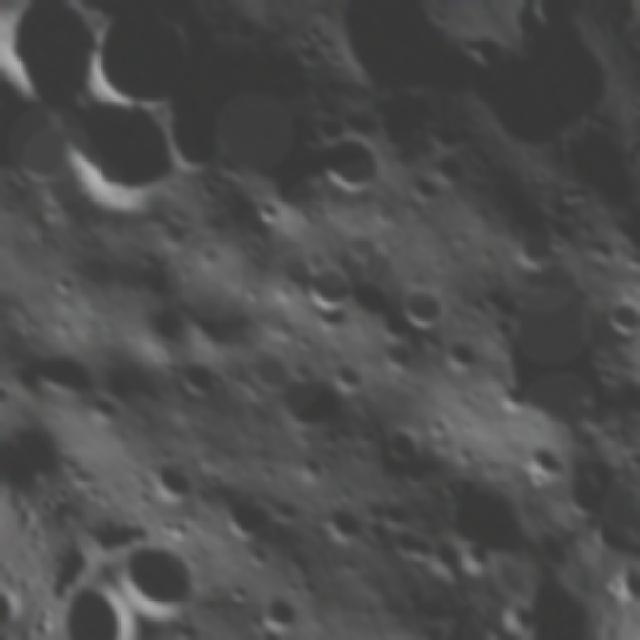crater: (45, 88, 187, 228), (232, 328, 345, 446), (104, 519, 205, 624), (302, 118, 392, 208), (21, 332, 96, 410), (496, 205, 570, 278), (332, 220, 399, 292), (214, 483, 278, 552), (168, 346, 228, 409), (296, 258, 356, 318), (394, 276, 451, 336), (141, 450, 197, 508), (370, 416, 427, 472), (515, 440, 570, 497), (594, 284, 640, 339), (255, 588, 302, 634), (152, 507, 198, 553), (492, 370, 536, 416), (244, 187, 287, 233), (218, 575, 256, 610), (44, 267, 76, 298), (0, 373, 22, 413), (0, 256, 6, 356), (158, 631, 191, 640), (402, 0, 467, 3)
